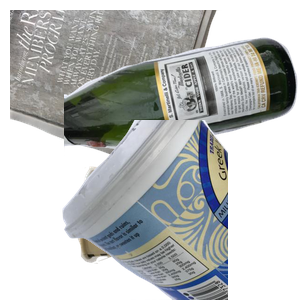glass: (64, 35, 300, 181)
paper: (10, 10, 222, 176)
plastic: (60, 120, 300, 300)
trash: (73, 164, 278, 300)
